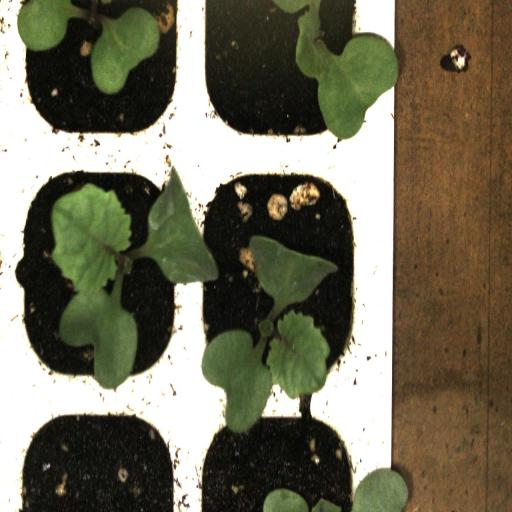seedling: (17, 156, 189, 399), (189, 156, 362, 395), (194, 0, 364, 150)
